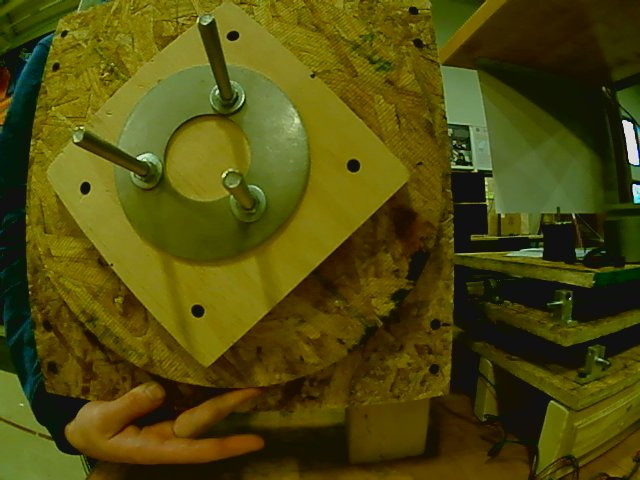bolt: (229, 183, 268, 224), (209, 79, 247, 116), (131, 150, 164, 192)
